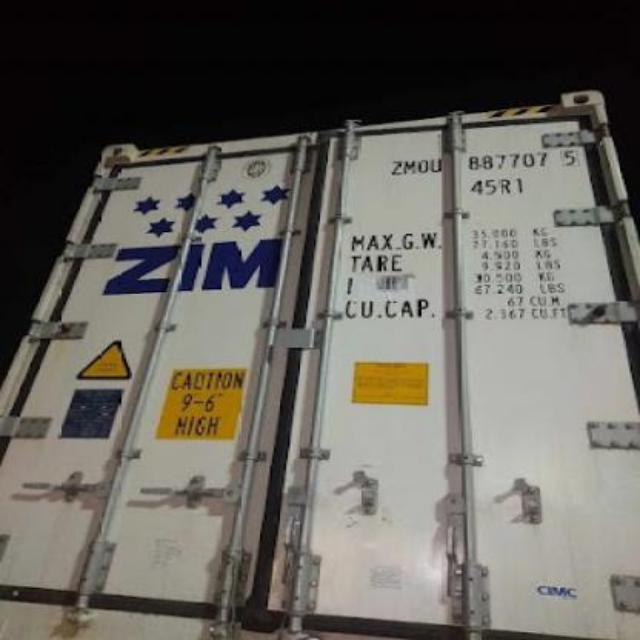0: (518, 152, 538, 168)
5: (564, 149, 578, 165)
7: (534, 150, 550, 168), (494, 154, 508, 172), (508, 154, 524, 168)
8: (482, 154, 494, 172), (470, 154, 482, 170)
M: (404, 162, 418, 174)
O: (416, 160, 429, 172)
U: (430, 157, 446, 173)
Z: (390, 160, 402, 172)
